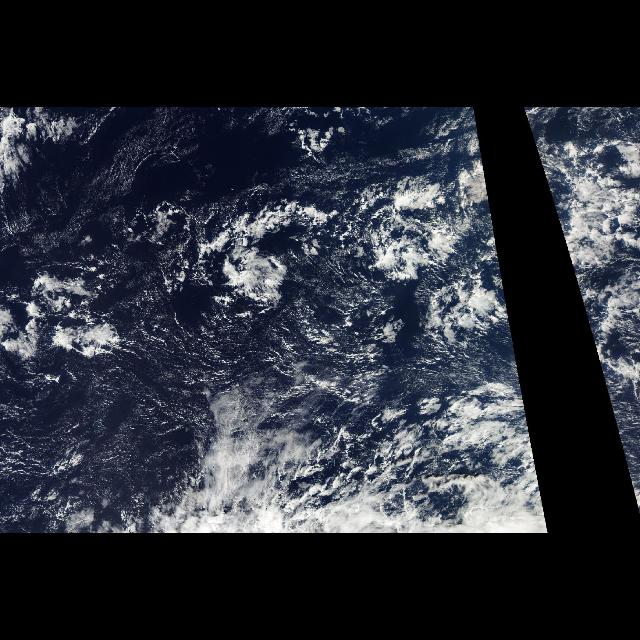Gravel: (142, 192, 472, 386)
Sugar: (10, 316, 242, 502), (15, 112, 214, 260), (292, 256, 378, 408)
